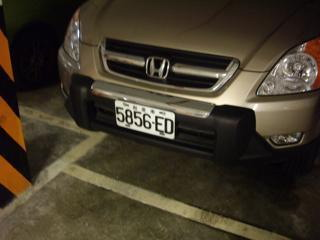plate: (113, 98, 177, 142)
